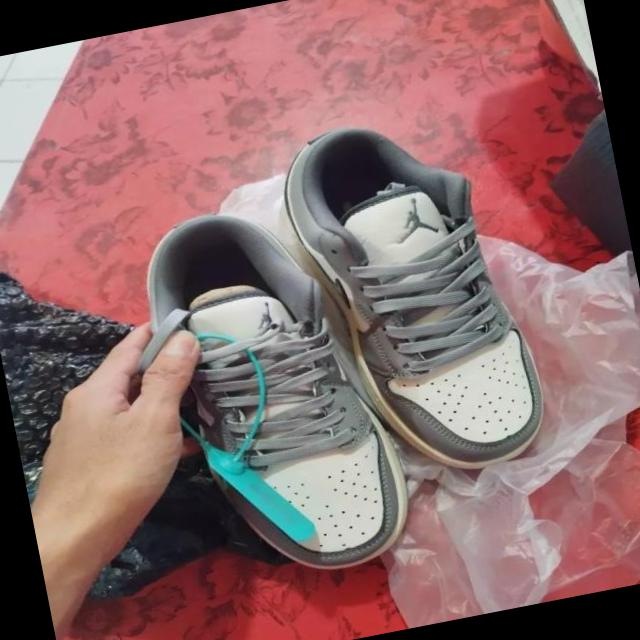nike_fake_jordan: (132, 188, 428, 595), (270, 101, 560, 498)
